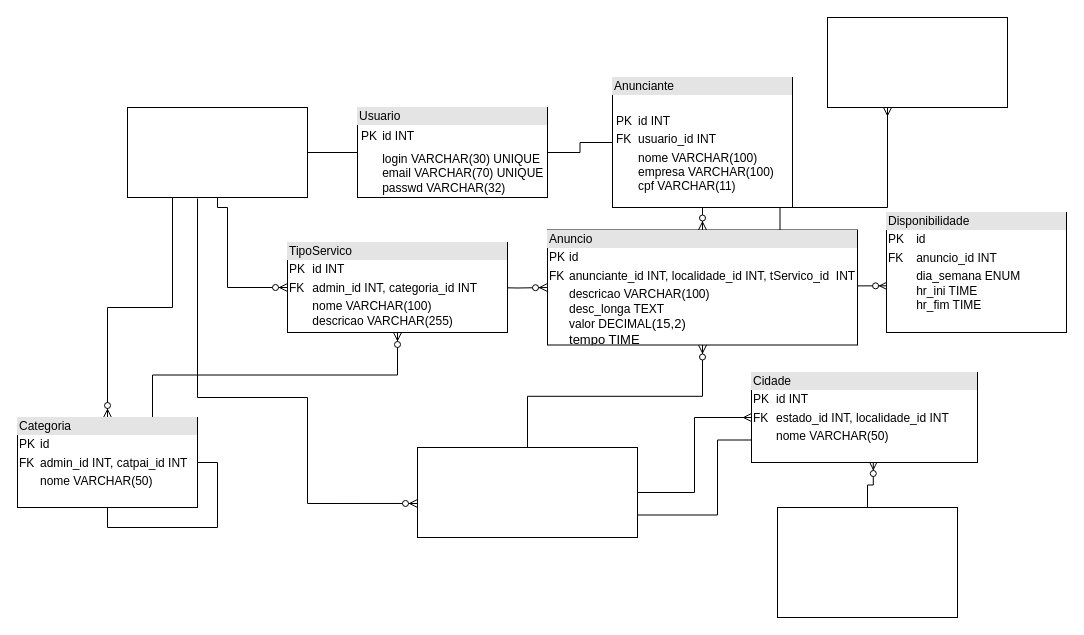
Image size: 1084x635. Some labels were removed from this diagram. The shapes that lost their labels are listed below. From the top down, each one's centre as x and y in pixels, then its label:
At pixel 917 62: "Imagem PK id INT FK anuncio_id INT link VARCHAR(200)".
At pixel 217 152: "Admin PK id FK usuario_id INT".
At pixel 527 492: "Localidade PK id INT FK admin_id INT, cidadeprinc_id INT".
At pixel 867 562: "Estado PK id INT nome VARCHAR(30) codigo INT sigla CHAR(2)".
